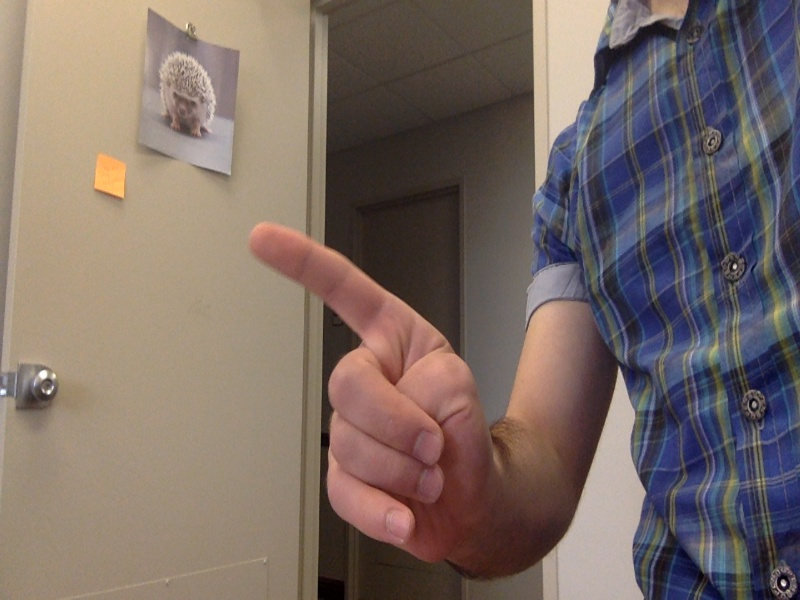1-hand: (248, 220, 492, 563)
